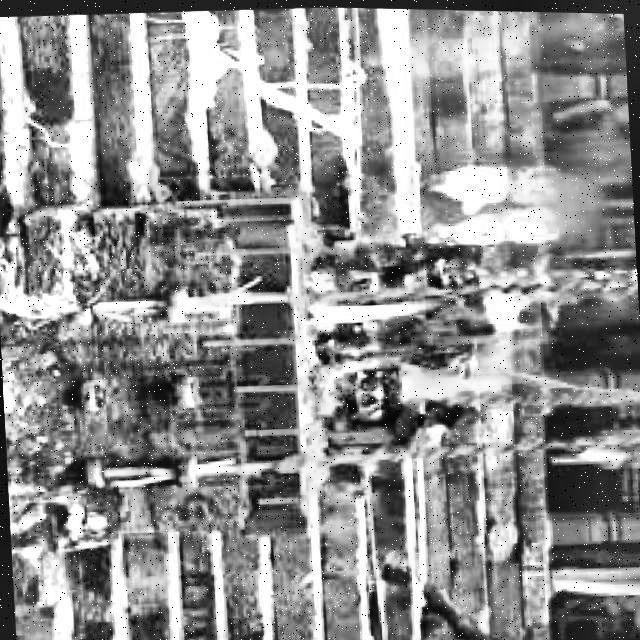Smoke: (299, 270, 555, 411)
